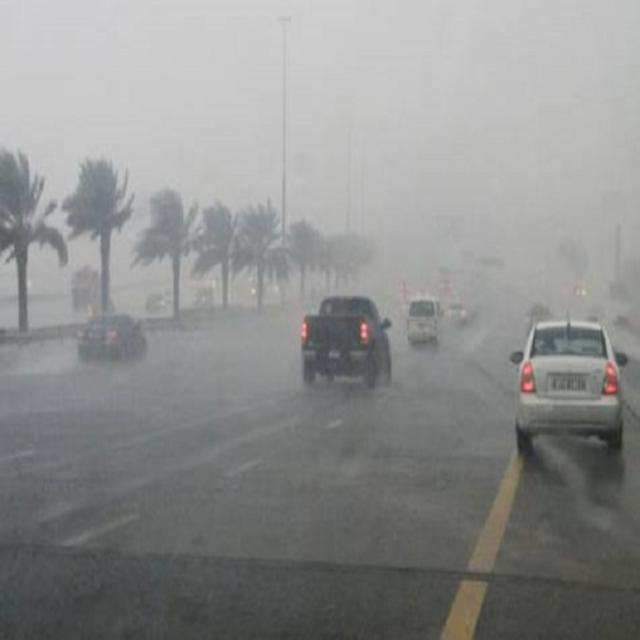bus: (68, 266, 116, 310)
car: (513, 320, 623, 454), (298, 294, 394, 389), (77, 312, 148, 363), (406, 295, 442, 347), (446, 300, 466, 325), (146, 289, 166, 308), (193, 284, 212, 304)
